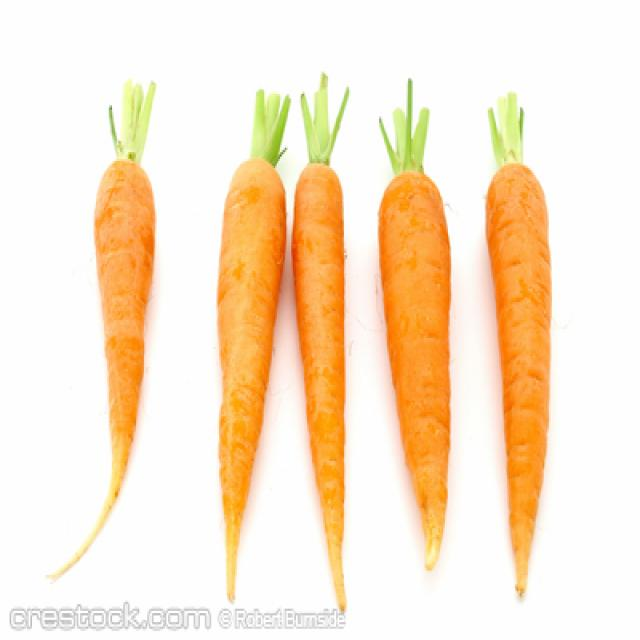Carrot: (290, 77, 368, 610), (373, 82, 458, 570), (478, 93, 556, 604), (87, 78, 161, 526), (210, 86, 272, 604)
